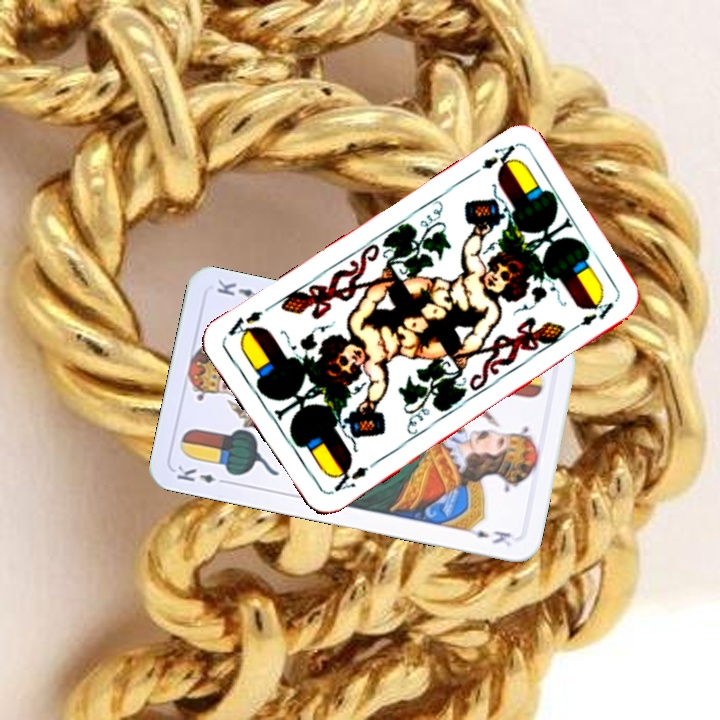EA: (465, 140, 519, 180), (326, 457, 379, 497)
EK: (172, 461, 231, 487)
